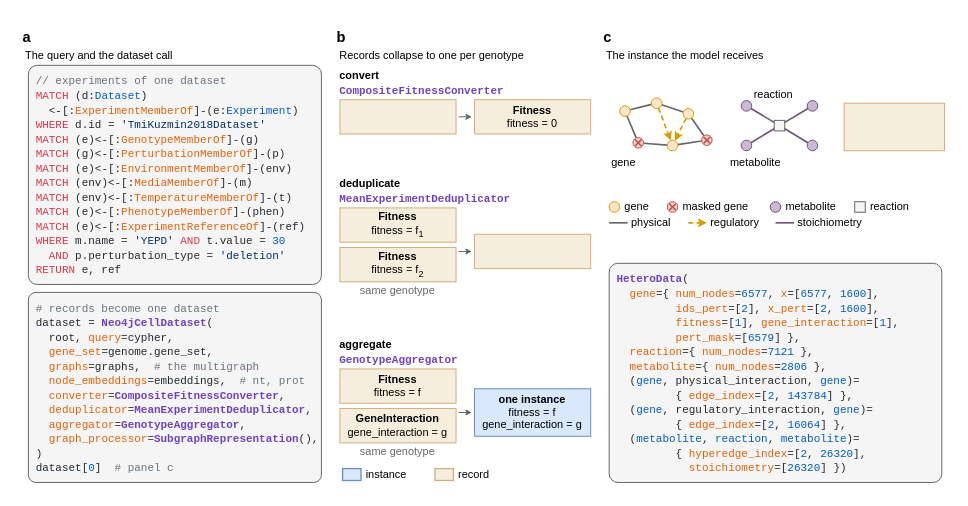
This 968x506 diagram has some shape labels left out. Each missing label, with the centre of its shape:
Fitness fitness = mean(f 1 , f 2 ): the point at 532,250
GeneEssentiality is_essential = True: the point at 397,116
labels fitness, gene_interaction: the point at 893,126
